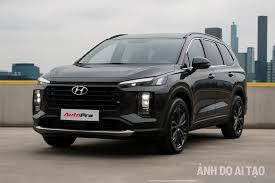hyundai: (66, 83, 93, 101)
